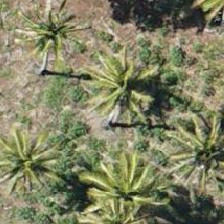coconut_tree: (83, 41, 173, 131), (9, 0, 99, 76), (71, 147, 161, 223), (161, 103, 223, 193), (0, 112, 59, 202)
